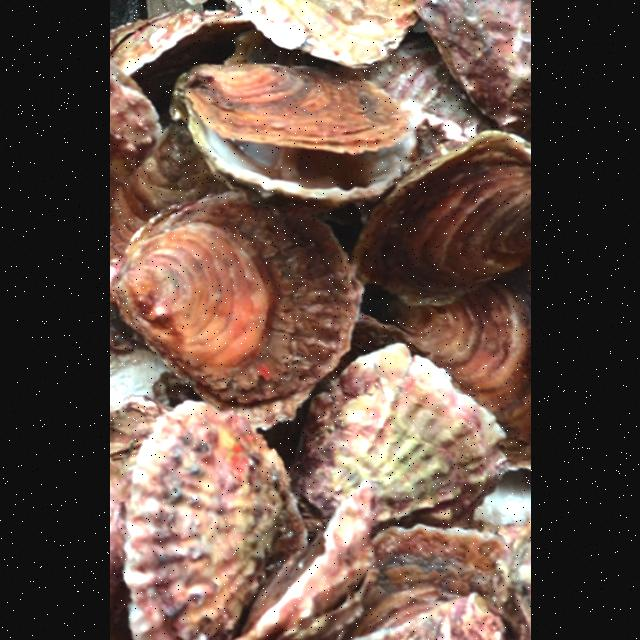Oyster-Closed: (114, 196, 355, 426), (123, 401, 308, 640), (289, 343, 505, 542), (222, 28, 530, 167), (360, 269, 530, 475), (349, 130, 530, 306), (261, 316, 430, 476), (109, 122, 226, 303), (235, 495, 376, 640), (109, 11, 252, 132), (360, 522, 511, 621), (217, 0, 419, 74), (109, 399, 171, 640), (413, 0, 530, 121), (347, 588, 526, 640), (109, 62, 161, 222)
Oyster-Open: (171, 64, 421, 212)
